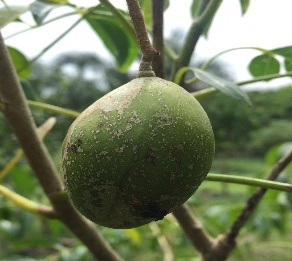Coc: (49, 73, 226, 228)
